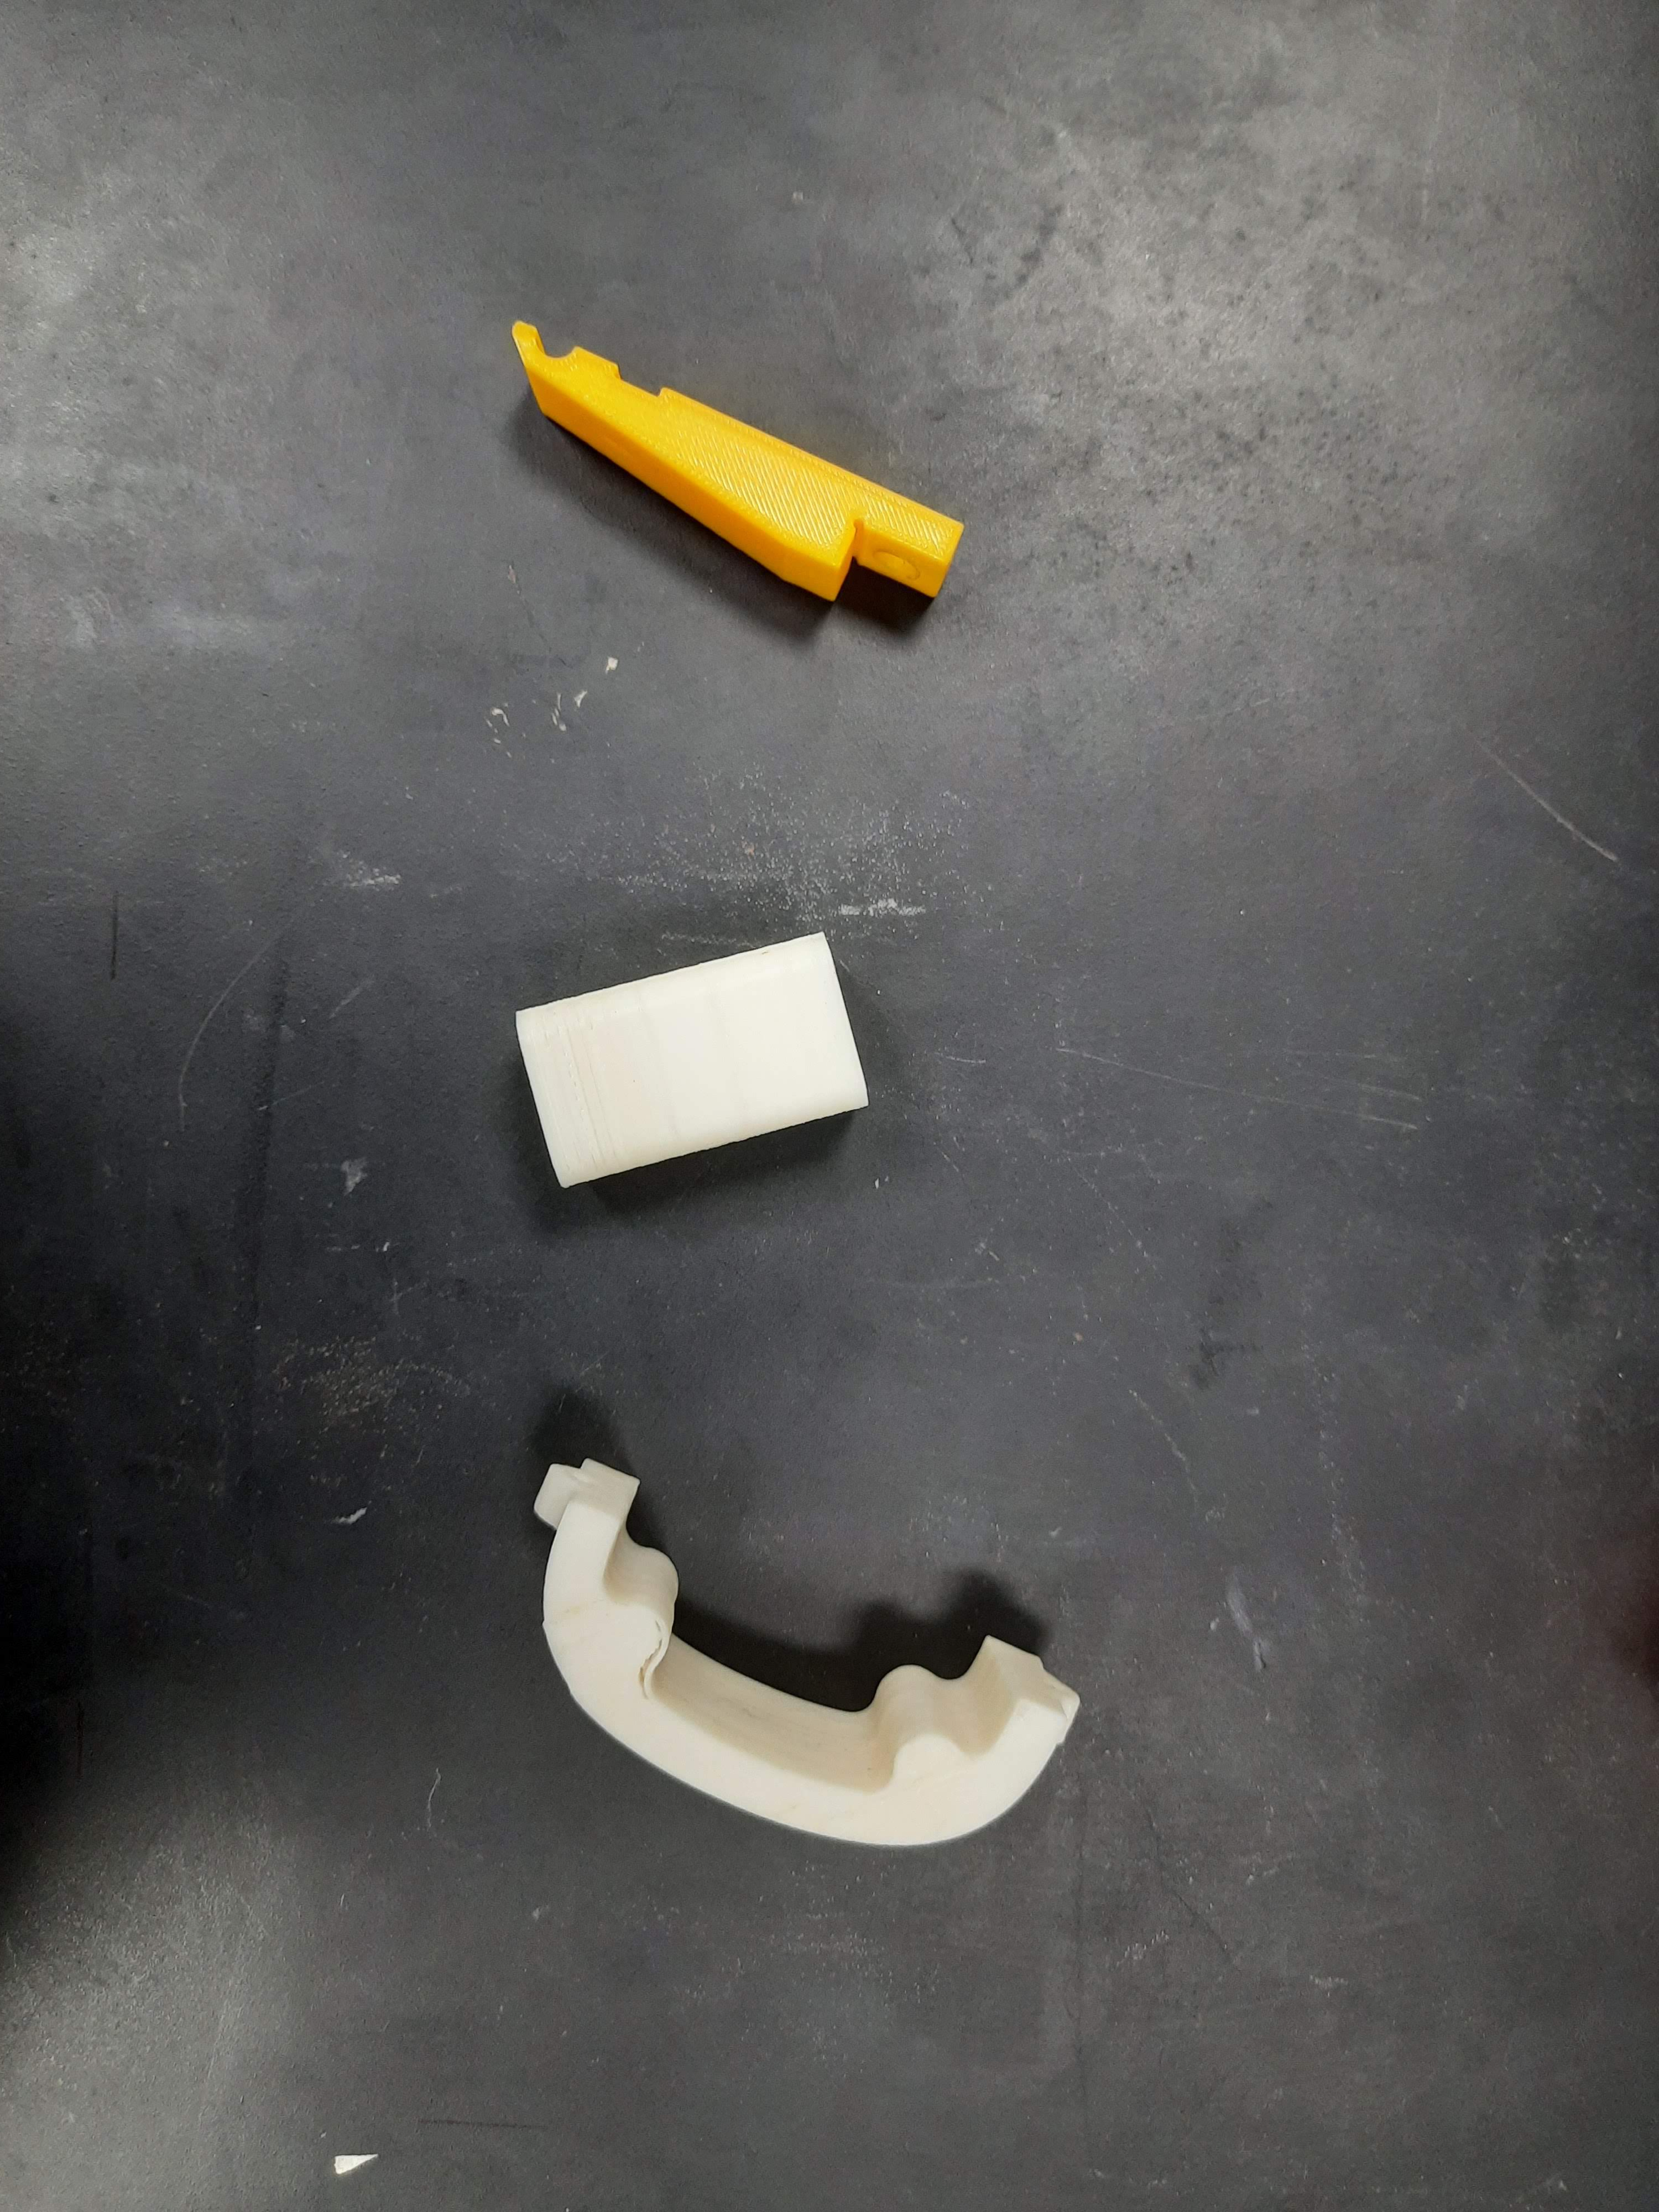ARC: (446, 1439, 1098, 1932)
CUBE: (511, 928, 864, 1190)
YELLOW: (451, 308, 981, 646)
